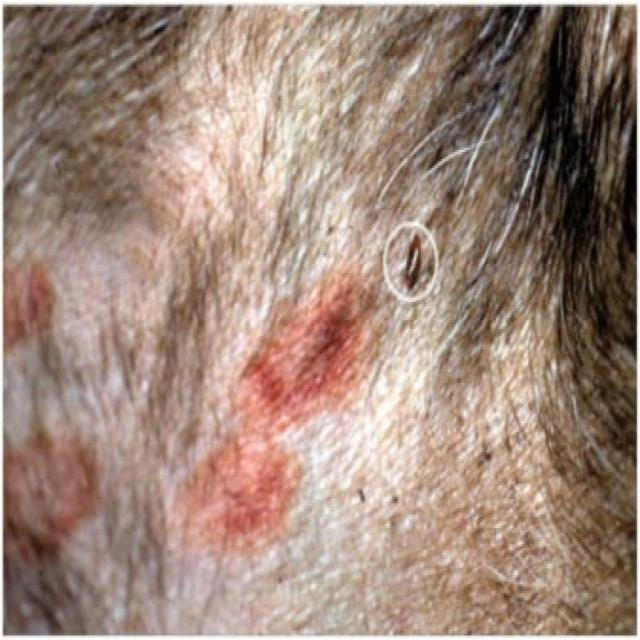allergic dermatitis: (160, 401, 305, 554), (217, 274, 366, 422), (3, 428, 108, 552), (1, 251, 68, 334)
